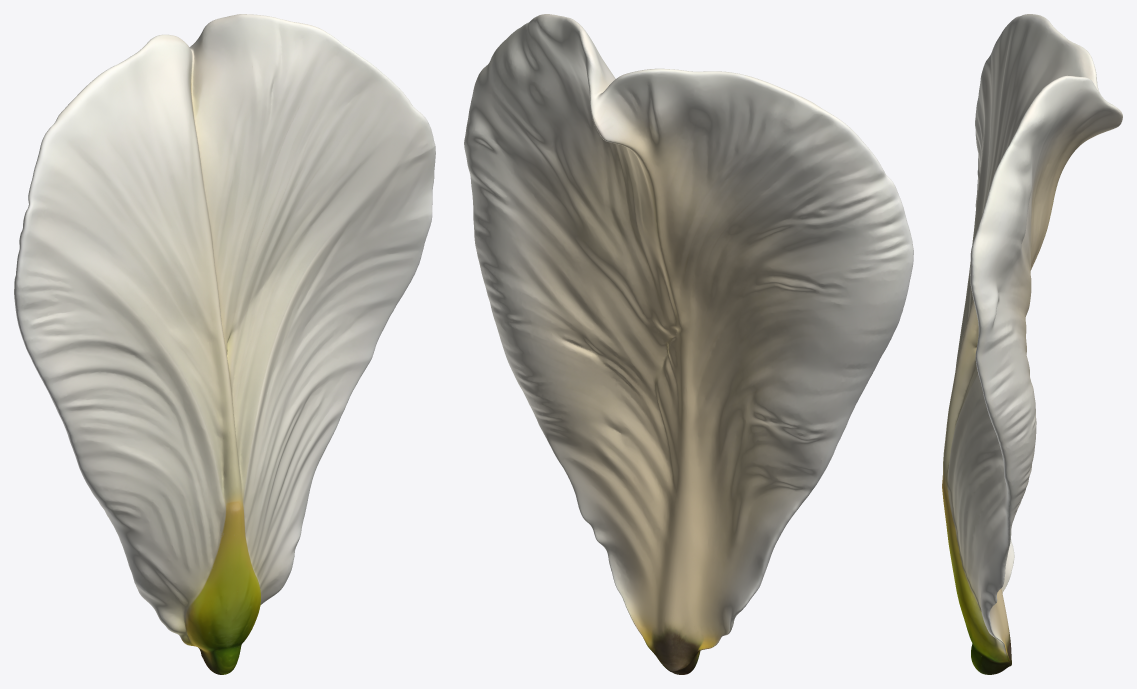
The model's file is petalo.glb.
3 views of the same model, side by side, from view 1: azimuth 30°, elevation 25°; view 2: azimuth 150°, elevation 25°; view 3: azimuth 270°, elevation 25° (orthographic). The views are drawn at different scales.
Bounding box in the file's own units: 1.35 × 1.9 × 0.4972.
Materials: 1 (1 with a texture image).
